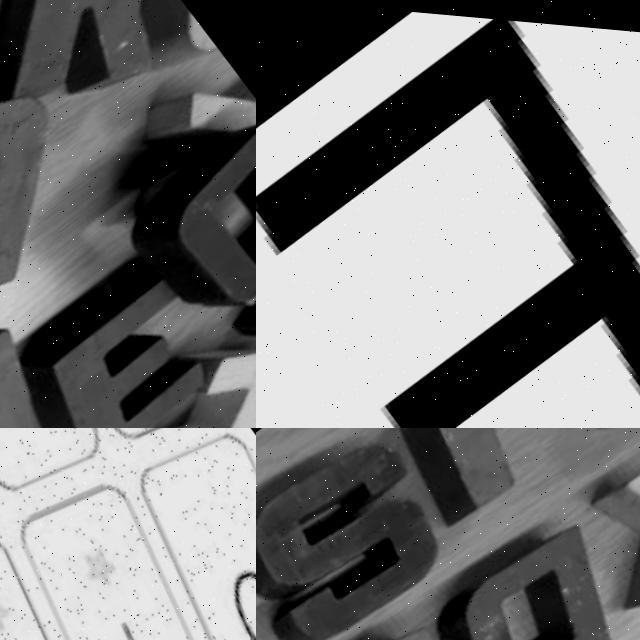0: (204, 535, 256, 640)
1: (96, 597, 193, 640)
D: (402, 477, 640, 640)
E: (256, 14, 640, 428)
H: (112, 271, 256, 428)
J: (350, 428, 609, 539)
O: (97, 83, 256, 344)
S: (256, 428, 469, 640)
V: (256, 580, 529, 640)
X: (571, 428, 640, 600)
